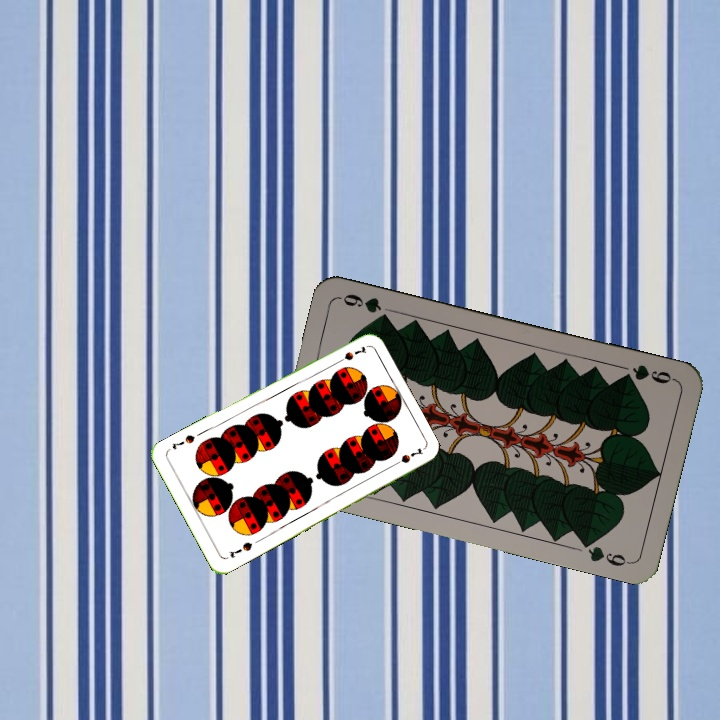G9: (617, 360, 678, 386)
S7: (331, 342, 369, 367), (225, 538, 255, 560)
